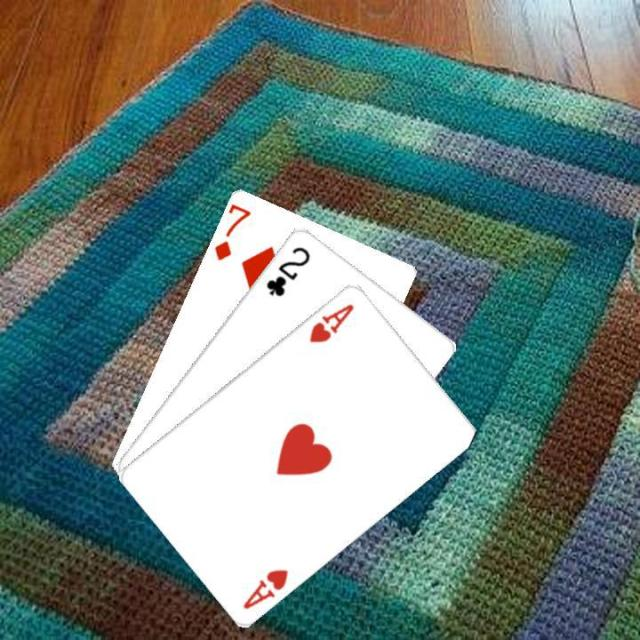2C: (261, 242, 312, 298)
7D: (210, 200, 253, 262)
AH: (238, 564, 290, 610), (305, 299, 356, 345)
